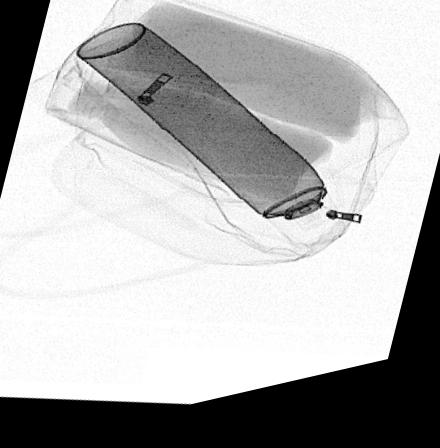Sprayer: (72, 26, 347, 264)
